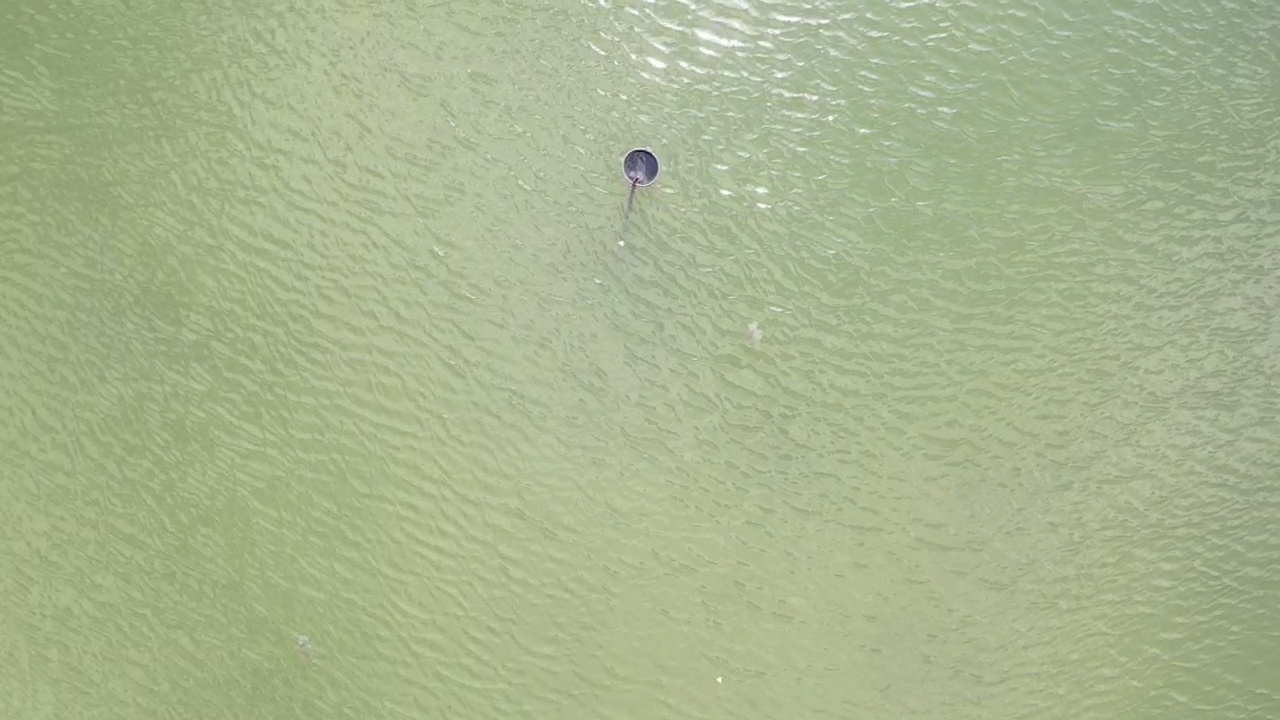meduse: (749, 321, 764, 342)
